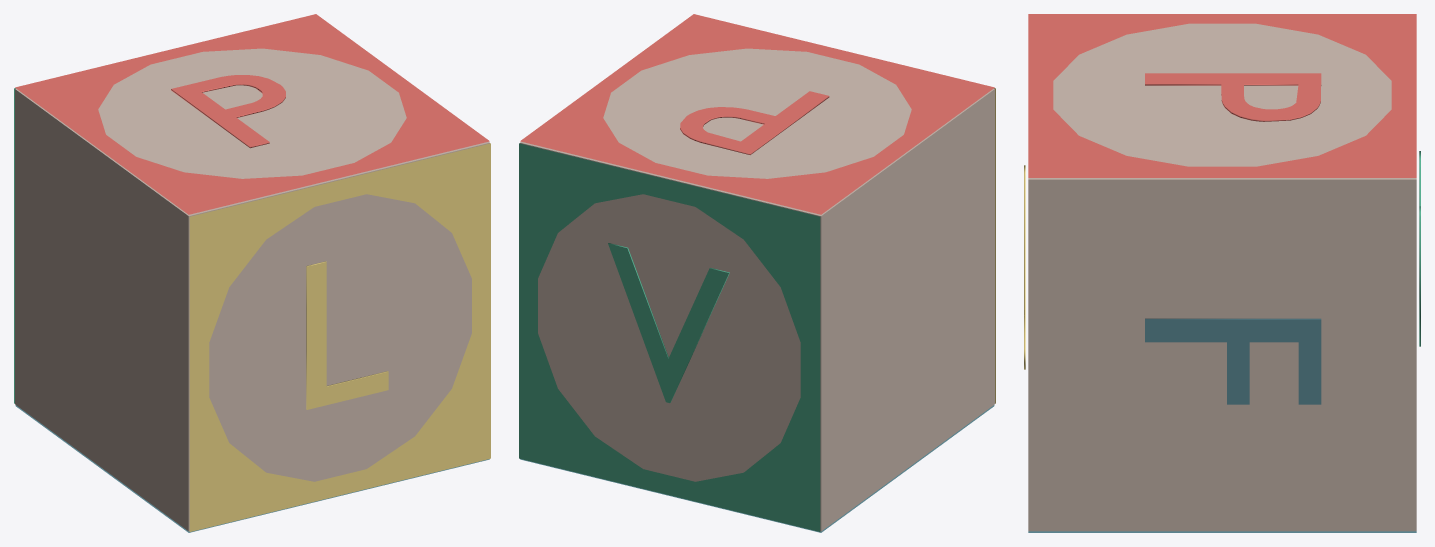
3 views of the same model, side by side, from view 1: azimuth 30°, elevation 25°; view 2: azimuth 150°, elevation 25°; view 3: azimuth 270°, elevation 25° (orthographic). The views are drawn at different scales.
Parts seen in each view (by area): view 1: cube; view 2: cube; view 3: cube.
Part boxes in pixels (x1=…): cube: x1=14, y1=14, x2=490, y2=532; cube: x1=519, y1=14, x2=995, y2=532; cube: x1=1024, y1=14, x2=1420, y2=532.
Bounding box in the file's own units: 0.0453 × 0.046 × 0.046.
